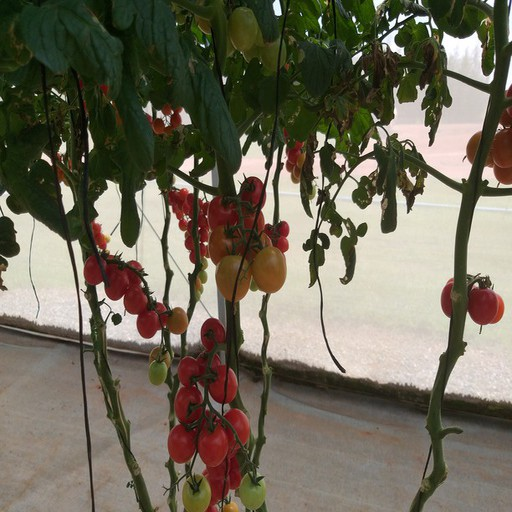dry leaves: (316, 33, 449, 130)
green tomato bunch: (162, 1, 287, 73)
mixed tomato bunch: (164, 187, 220, 266), (154, 98, 182, 135)
red tomato bunch: (171, 319, 247, 459), (206, 176, 284, 297), (85, 253, 167, 333), (466, 83, 512, 184), (441, 273, 506, 326), (197, 450, 251, 512), (73, 198, 109, 251), (278, 125, 311, 181)
